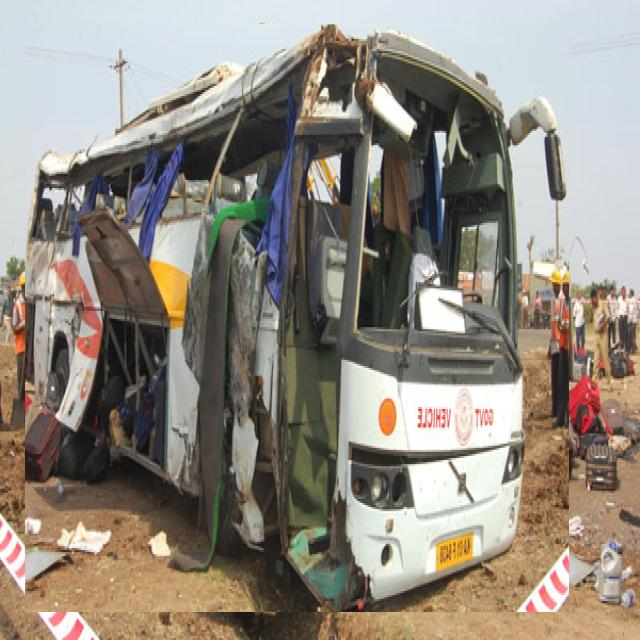accident: (25, 24, 569, 612)
